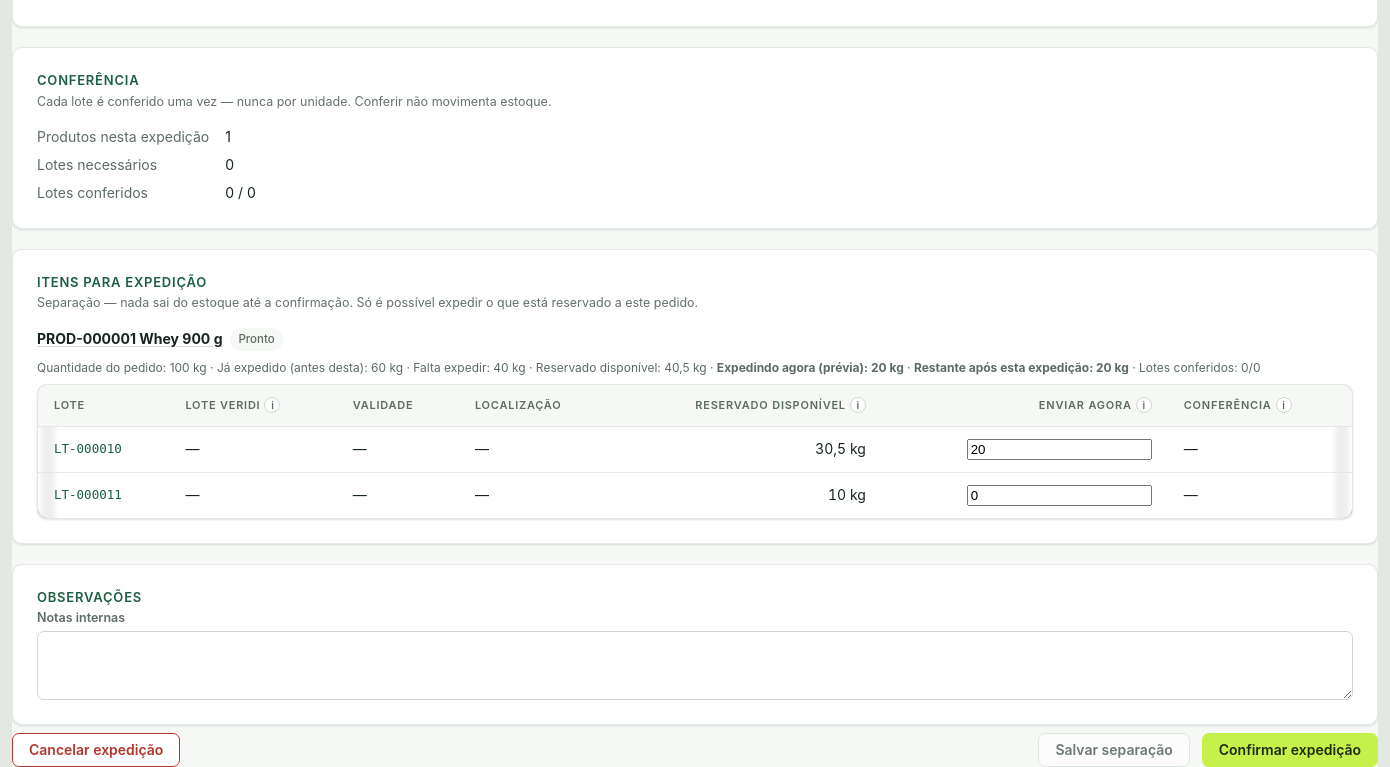
it: Expedição — prévia por produto › E. vários lotes: a prévia soma todas as linhas do produto
(page scrolled)
Replace the text in the field named "Quantidade do lote LT-000011" with "10" at (1059, 496), box [967,485,1152,506]
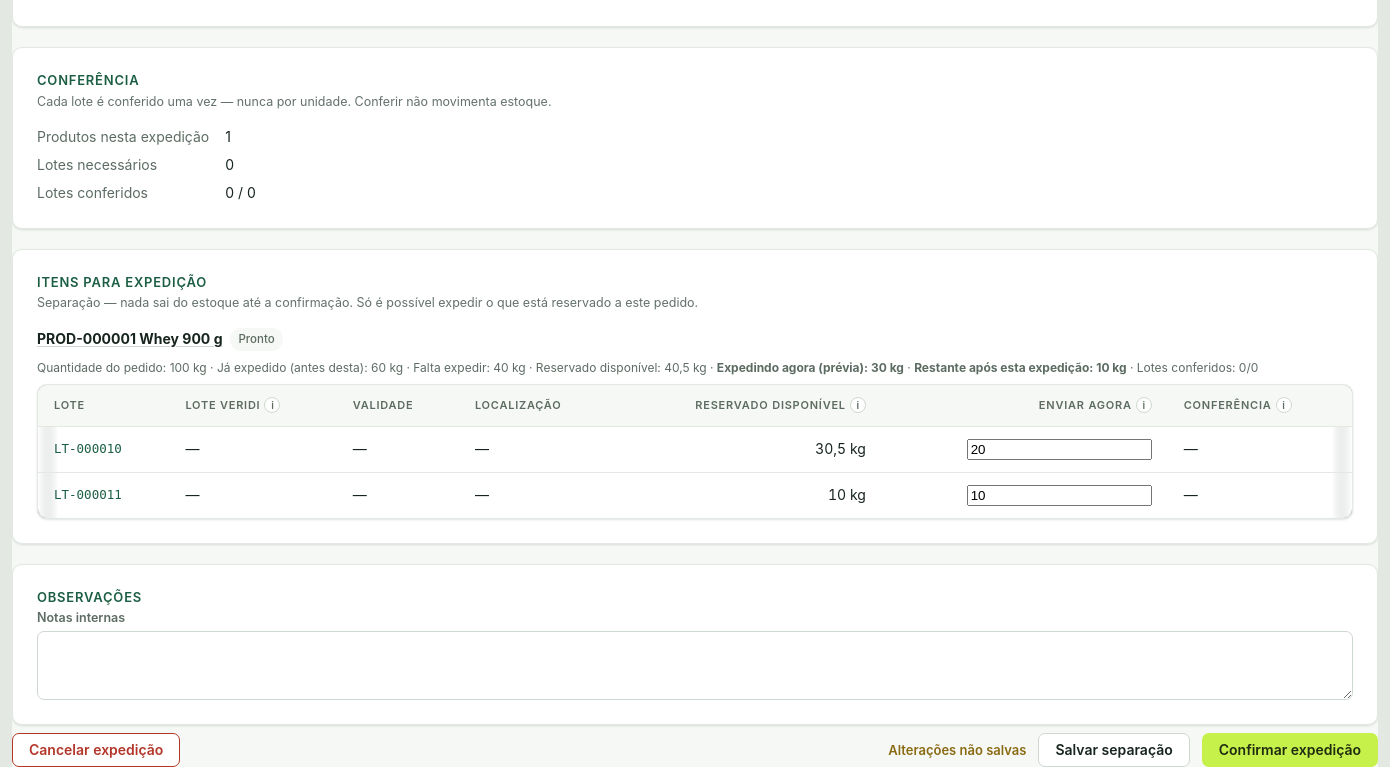
Expected: the element with class "shipment-product__meta" shows "Expedindo agora (prévia): 30 kg", [37,359,1353,376]
Expected: the element with class "shipment-product__meta" shows "Restante após esta expedição: 10 kg", [37,359,1353,376]
